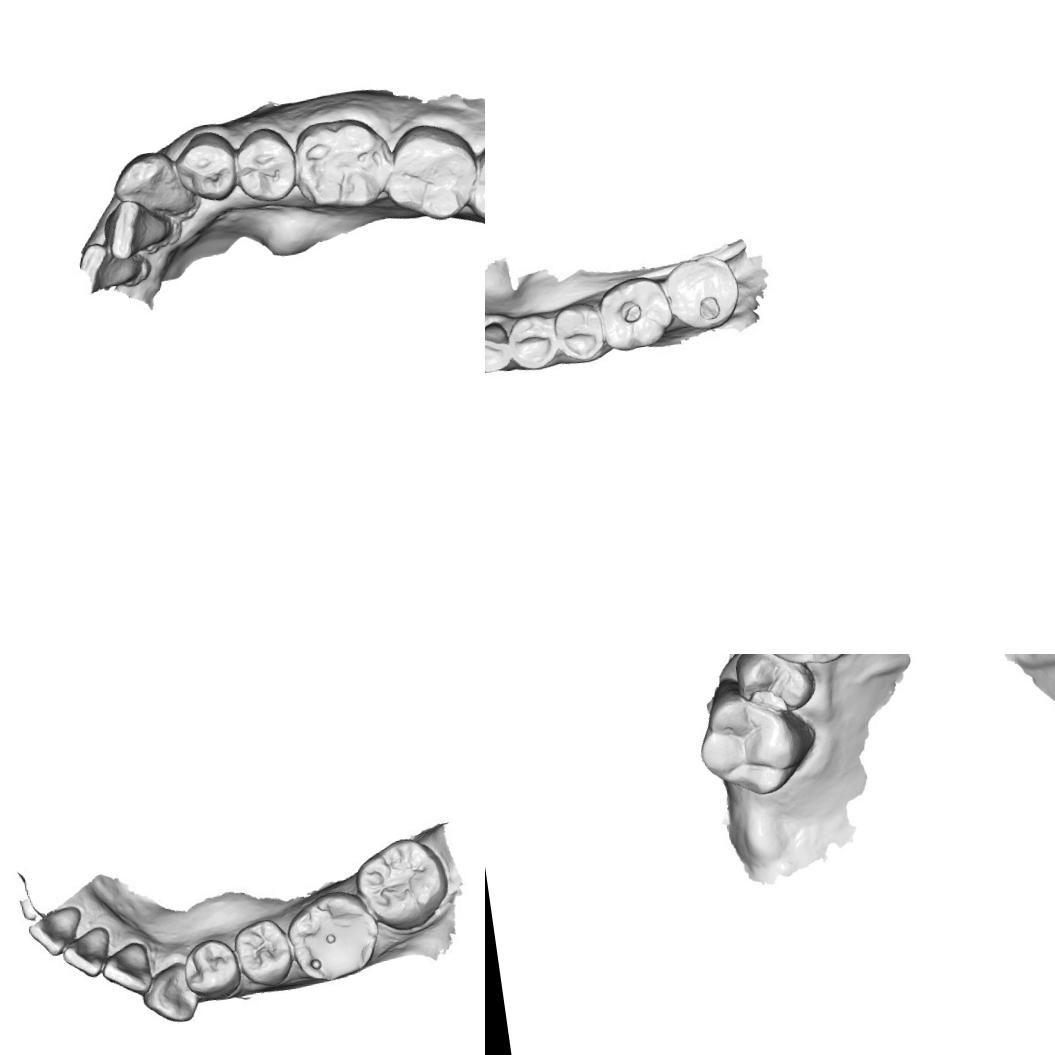canine: (107, 148, 192, 224), (138, 958, 204, 1027), (485, 318, 513, 378)
incisor: (98, 194, 171, 261), (75, 236, 147, 296), (100, 936, 158, 1000), (26, 902, 86, 960), (62, 920, 115, 980)
molar: (696, 687, 816, 804), (375, 117, 482, 229), (290, 115, 395, 215), (285, 886, 384, 985), (352, 836, 452, 934), (595, 276, 676, 356), (662, 250, 739, 330), (461, 131, 485, 237)
premolar: (726, 654, 819, 719), (230, 127, 297, 206), (173, 131, 238, 204), (232, 918, 296, 984), (178, 936, 239, 1001), (509, 312, 560, 370), (556, 306, 603, 362), (761, 654, 855, 674)
